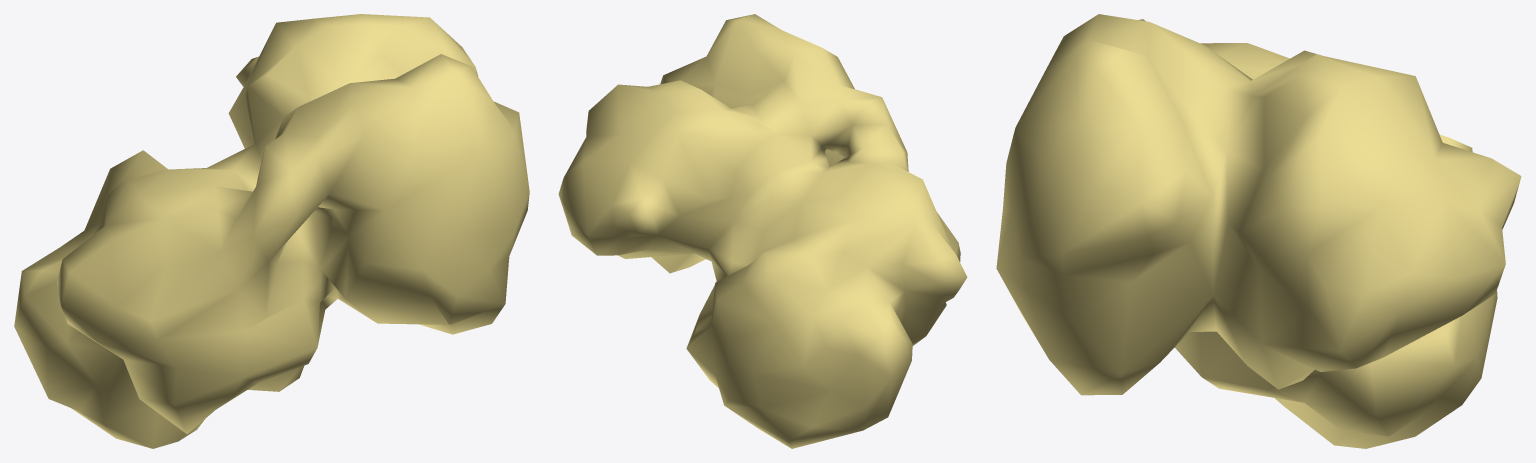
Rendered from MiinBloodPlasma_Transferrin_3qyt_0_1_0.dae.
The picture shows the model from 3 angles, left to right: view 1: azimuth 30°, elevation 25°; view 2: azimuth 150°, elevation 25°; view 3: azimuth 270°, elevation 25°; orthographic projection. The views are drawn at different scales.
Visible parts, largest first — view 1: CoarseMS_3qyt; view 2: CoarseMS_3qyt; view 3: CoarseMS_3qyt.
Boxes of the visible parts, box(x1,y1,x2,y2) form: CoarseMS_3qyt: box(14, 14, 529, 448); CoarseMS_3qyt: box(558, 14, 967, 448); CoarseMS_3qyt: box(996, 14, 1521, 448).
Size of the model in its own units: 86.84 by 74.66 by 71.
